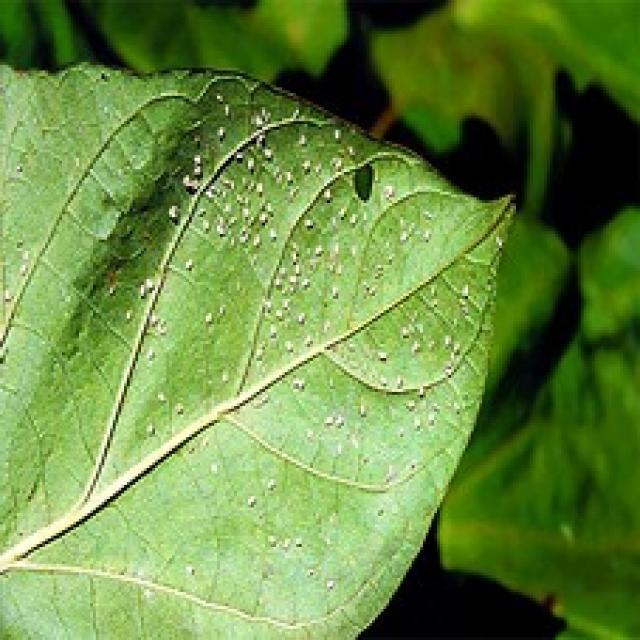Septoria_Leaf_Spot: (260, 252, 380, 391), (212, 88, 302, 220), (116, 276, 176, 372), (308, 411, 398, 456), (178, 146, 217, 192)
